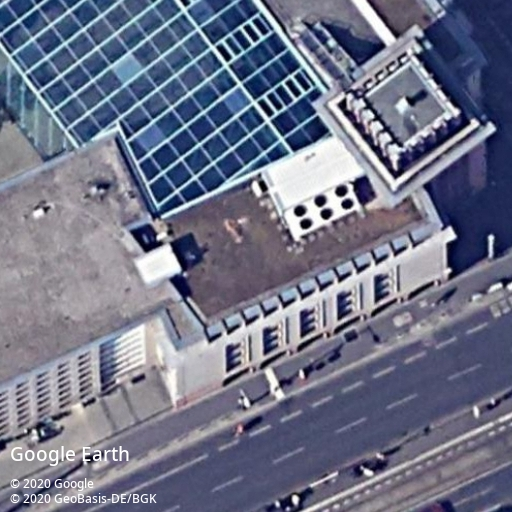Chiller: (283, 180, 362, 240)
